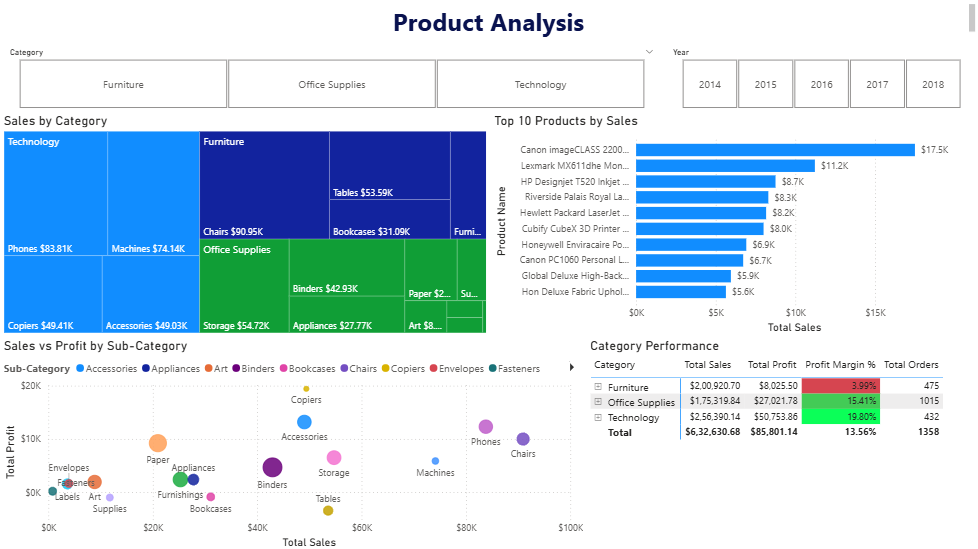

The page's visual inventory and layout, read from the dashboard file:
{"tool":"powerbi","page":{"name":"Product Analysis","canvas":[1280,720],"ordinal":1},"visuals":[{"type":"textbox","box":[0,0,1279.4,56.7],"z":0},{"type":"treemap","title":"Sales by Category","fields":{"Group":["Sample - Superstore.Category"],"Details":["Sample - Superstore.Sub-Category"],"Values":["_Measures.Total Sales"]},"box":[0,147.4,640.6,292.9],"z":1000},{"type":"clusteredBarChart","title":"Top 10 Products by Sales","fields":{"Category":["Sample - Superstore.Product Name"],"Y":["_Measures.Total Sales"]},"box":[640.6,147.4,623.6,292.9],"z":2000},{"type":"scatterChart","title":"Sales vs Profit by Sub-Category","fields":{"X":["_Measures.Total Sales"],"Y":["_Measures.Total Profit"],"Size":["Sum(Sample - Superstore.Quantity)"],"Series":["Sample - Superstore.Sub-Category"]},"box":[0,440.3,767.2,279.7],"z":3000},{"type":"pivotTable","title":"Category Performance","fields":{"Rows":["Sample - Superstore.Category","Sample - Superstore.Sub-Category"],"Values":["_Measures.Total Sales","_Measures.Total Profit","_Measures.Profit Margin %","_Measures.Total Orders"]},"box":[767.2,440.3,512.1,279.7],"z":4000},{"type":"slicer","fields":{"Values":["Sample - Superstore.Category"]},"box":[0,56.7,866.3,90.7],"z":5000},{"type":"slicer","fields":{"Values":["Date Table.Year"]},"box":[866.3,56.7,412.9,90.7],"z":6000}]}

Visuals, with their boxes in screenshot pixels (x1, y1, x2, y2), scaled from the page's 1280x720 canvas onto the 978x549 screenshot:
textbox: crop(0, 0, 977, 43)
"Sales by Category" treemap: crop(0, 112, 489, 336)
"Top 10 Products by Sales" clusteredBarChart: crop(489, 112, 966, 336)
"Sales vs Profit by Sub-Category" scatterChart: crop(0, 336, 586, 548)
"Category Performance" pivotTable: crop(586, 336, 977, 548)
slicer - Sample - Superstore.Category: crop(0, 43, 662, 112)
slicer - Date Table.Year: crop(662, 43, 977, 112)
